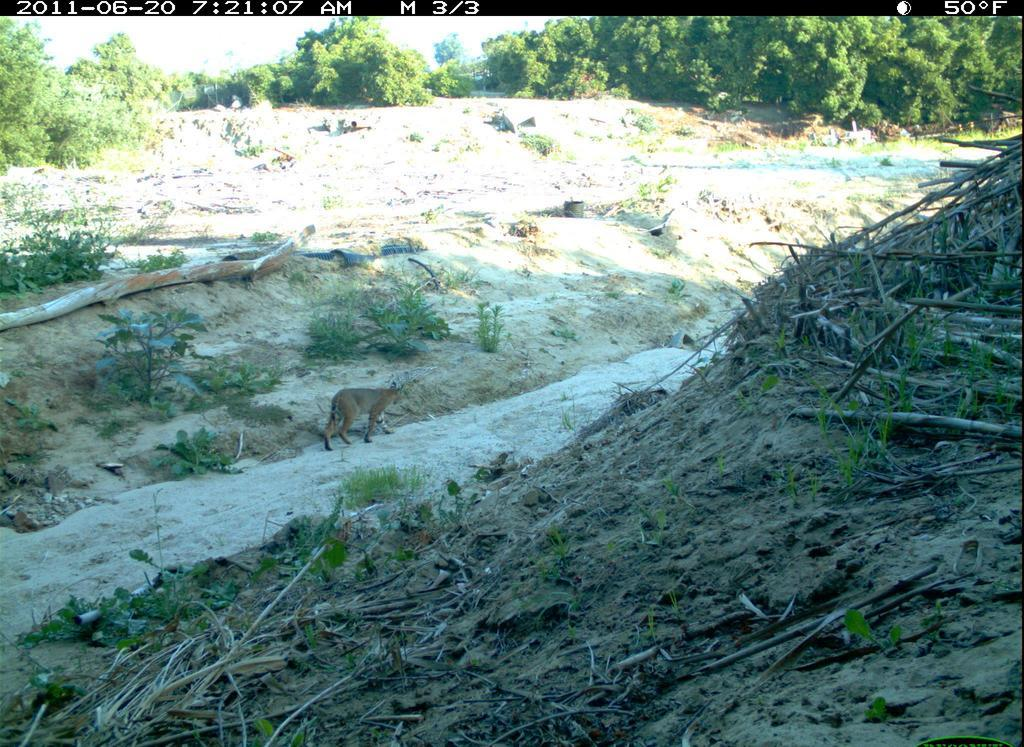bobcat: (310, 374, 411, 459)
